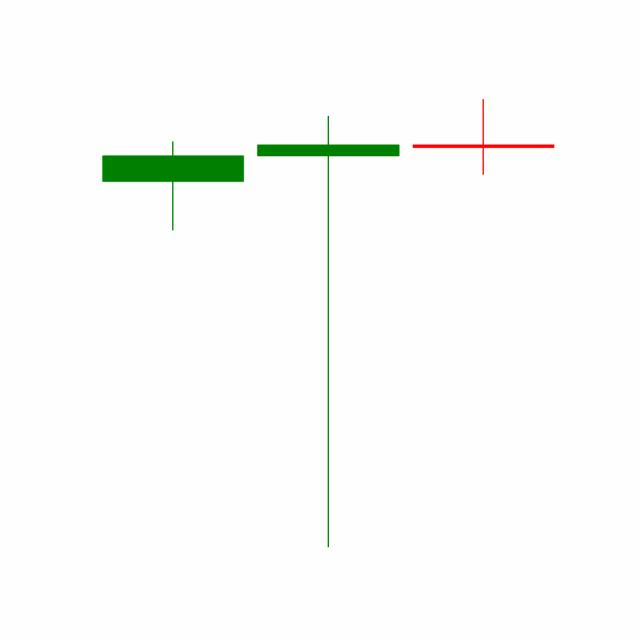Spinning Top: (249, 110, 406, 552)
